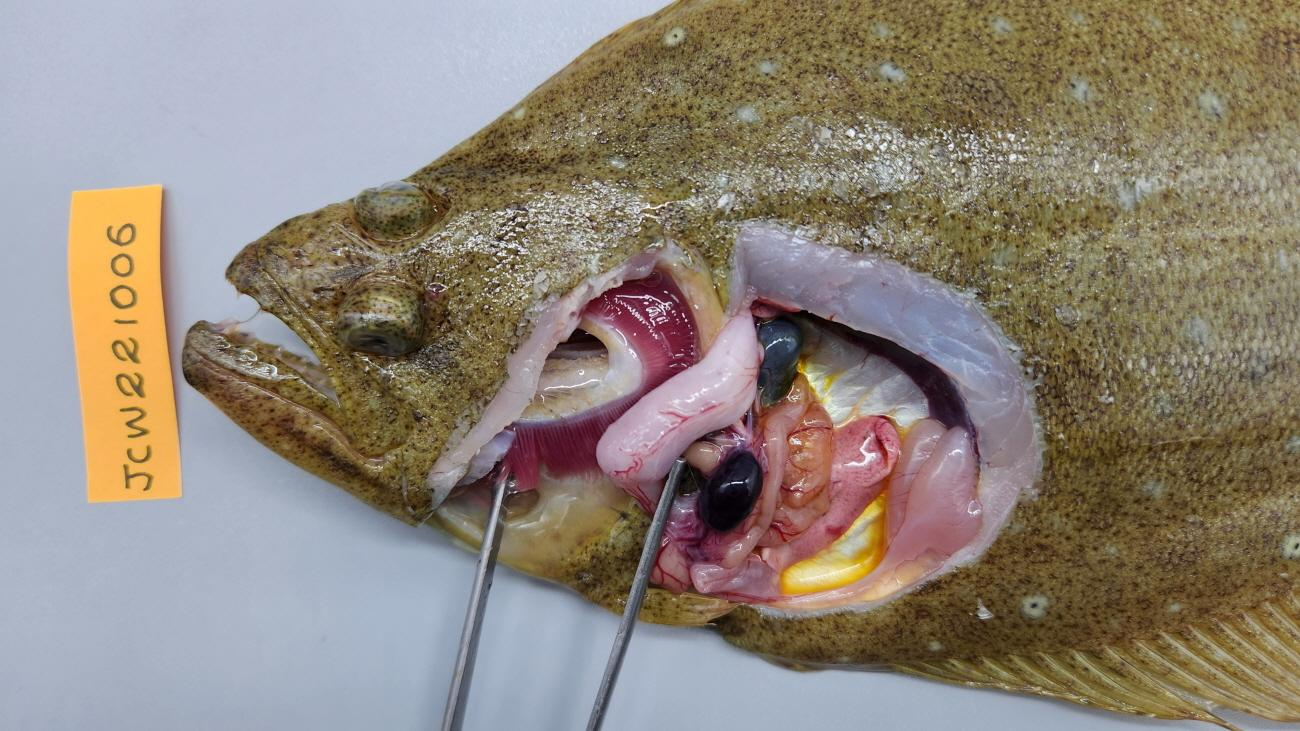POINN: (663, 372, 810, 568)
POSPN: (696, 450, 763, 532)
